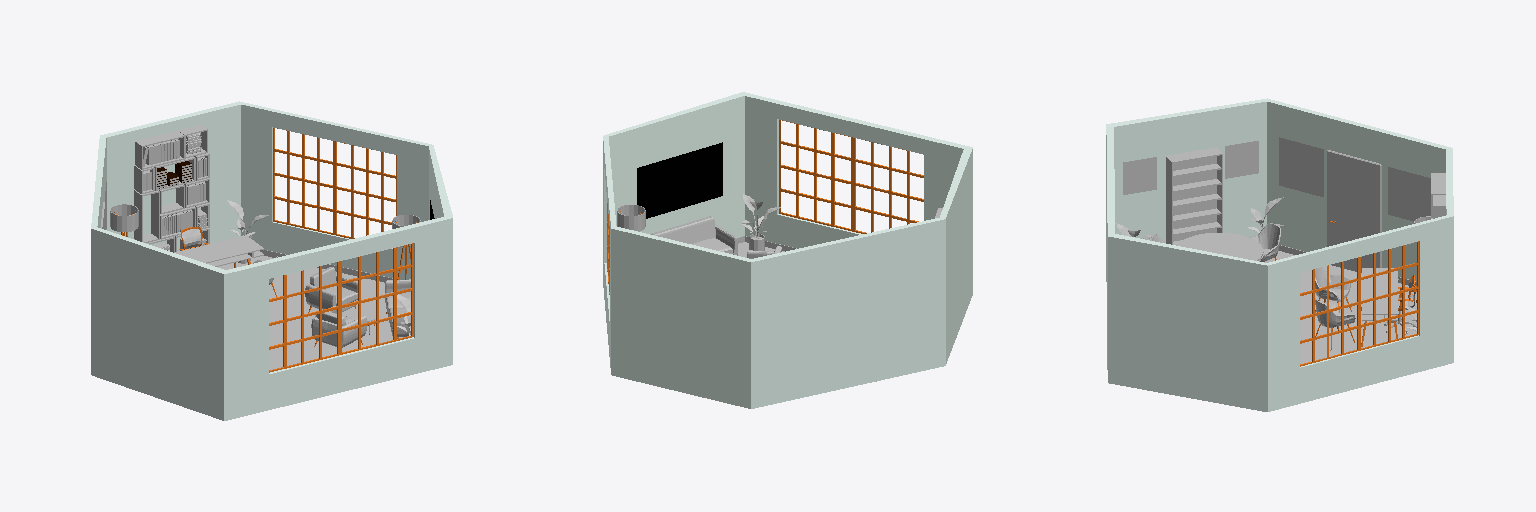
Rendered from consultorio2.obj.
3 renders of one model, left to right at view 1: azimuth 30°, elevation 25°; view 2: azimuth 150°, elevation 25°; view 3: azimuth 270°, elevation 25°, orthographic.
Parts seen in each view (by area): view 1: Cubo.155, Plano.002, Cubo.028, Cubo.156, Cubo.021, Cubo.036, sofa.003, Cubo.029, Cilindro.011, sofa.002; view 2: Cubo.155, Plano.008, Cubo.028, sofa.006, Cilindro.006; view 3: Cubo.155, Cubo.023, Cube, Plano.002, Cubo.156, Plano.004, Plano.005, Cilindro, Cubo.021, Cube.005, Plano.007, Plano.006 (+3 smaller).
Boxes of the visible parts, <box> form: Cubo.155: <box>91,101,452,420</box>; Plano.002: <box>218,256,402,369</box>; Cubo.028: <box>269,243,413,372</box>; Cubo.156: <box>273,128,396,238</box>; Cubo.021: <box>175,235,263,266</box>; Cubo.036: <box>134,190,159,242</box>; sofa.003: <box>311,306,366,347</box>; Cubo.029: <box>135,130,184,169</box>; Cilindro.011: <box>110,204,138,231</box>; sofa.002: <box>305,274,357,313</box>; Cubo.155: <box>603,92,972,408</box>; Plano.008: <box>637,142,722,218</box>; Cubo.028: <box>779,120,923,233</box>; sofa.006: <box>651,216,715,243</box>; Cilindro.006: <box>617,204,645,231</box>; Cubo.155: <box>1106,98,1453,411</box>; Cubo.023: <box>1166,147,1222,244</box>; Cube: <box>1327,150,1381,267</box>; Plano.002: <box>1264,251,1416,363</box>; Cubo.156: <box>1300,241,1418,366</box>; Plano.004: <box>1279,137,1323,196</box>; Plano.005: <box>1388,167,1430,221</box>; Cilindro: <box>1177,233,1263,260</box>; Cubo.021: <box>1362,268,1397,320</box>; Cube.005: <box>1333,177,1374,272</box>; Plano.007: <box>1123,157,1156,194</box>; Plano.006: <box>1225,141,1258,178</box>.
Size of the model in its own units: 8.55 by 3.53 by 7.51.